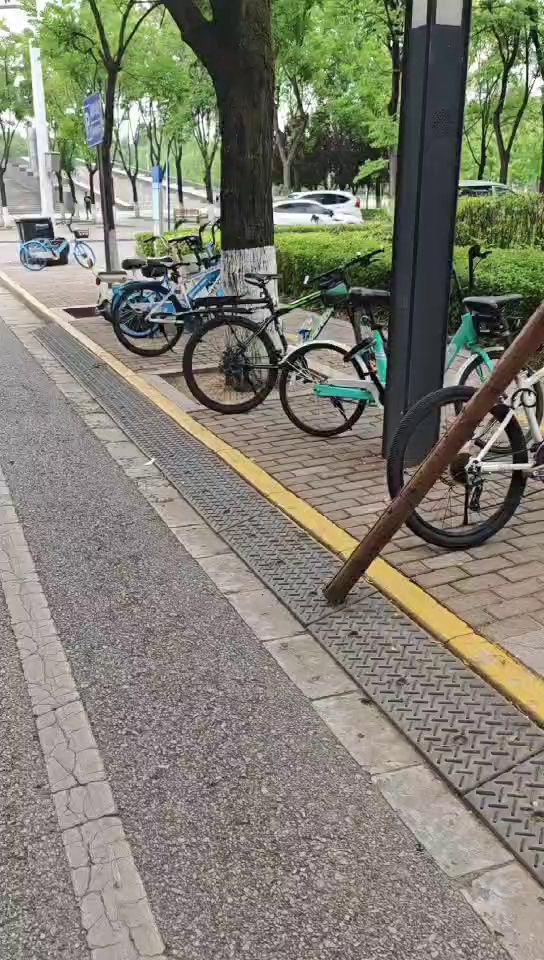others: (197, 270, 383, 408)
shared_bike_haluo: (112, 253, 233, 325)
shared_bike_qingcong: (281, 265, 535, 452)
